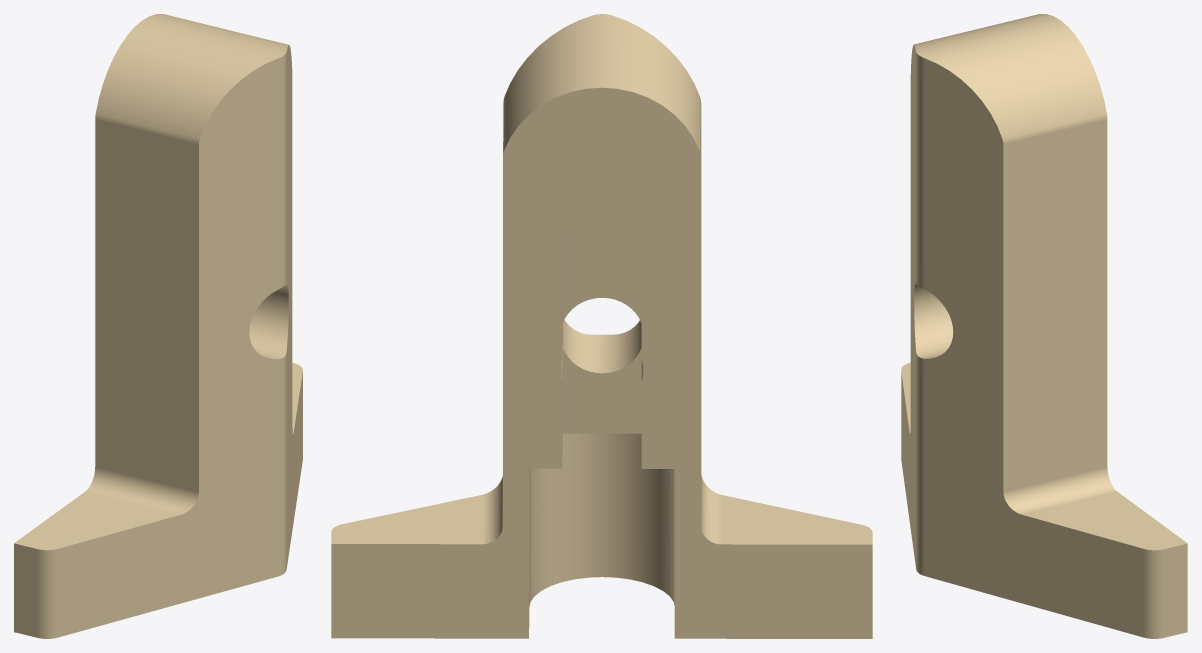
File: Body9.dae
The picture shows the model from 3 angles, left to right: view 1: azimuth 30°, elevation 25°; view 2: azimuth 150°, elevation 25°; view 3: azimuth 270°, elevation 25°; orthographic projection. The views are drawn at different scales.
Visible parts, largest first — view 1: Body9; view 2: Body9; view 3: Body9.
Boxes of the visible parts, x1,y1,x2,y2 form: Body9: (14,14,302,638); Body9: (331,14,872,638); Body9: (901,14,1187,638).
Bounding box in the file's own units: 2.34 × 1.46 × 2.92.
